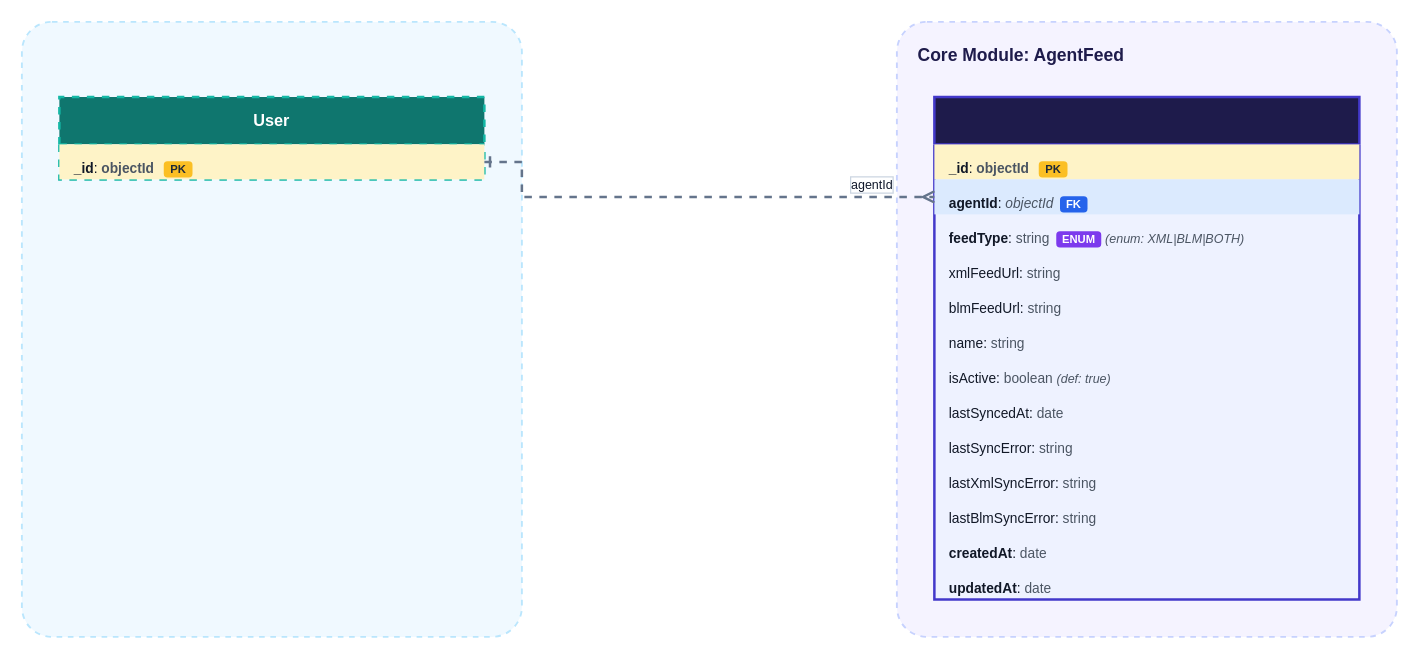
The diagram is 1420 pixels wide and 660 high, and some of its shapes have lost their labels. The box of each missing label's shape, as (x1, y1, x2, y2) in pixels:
AgentFeed: (932, 95, 1360, 600)
Parent Lookups / External Dependencies: (20, 20, 522, 637)
